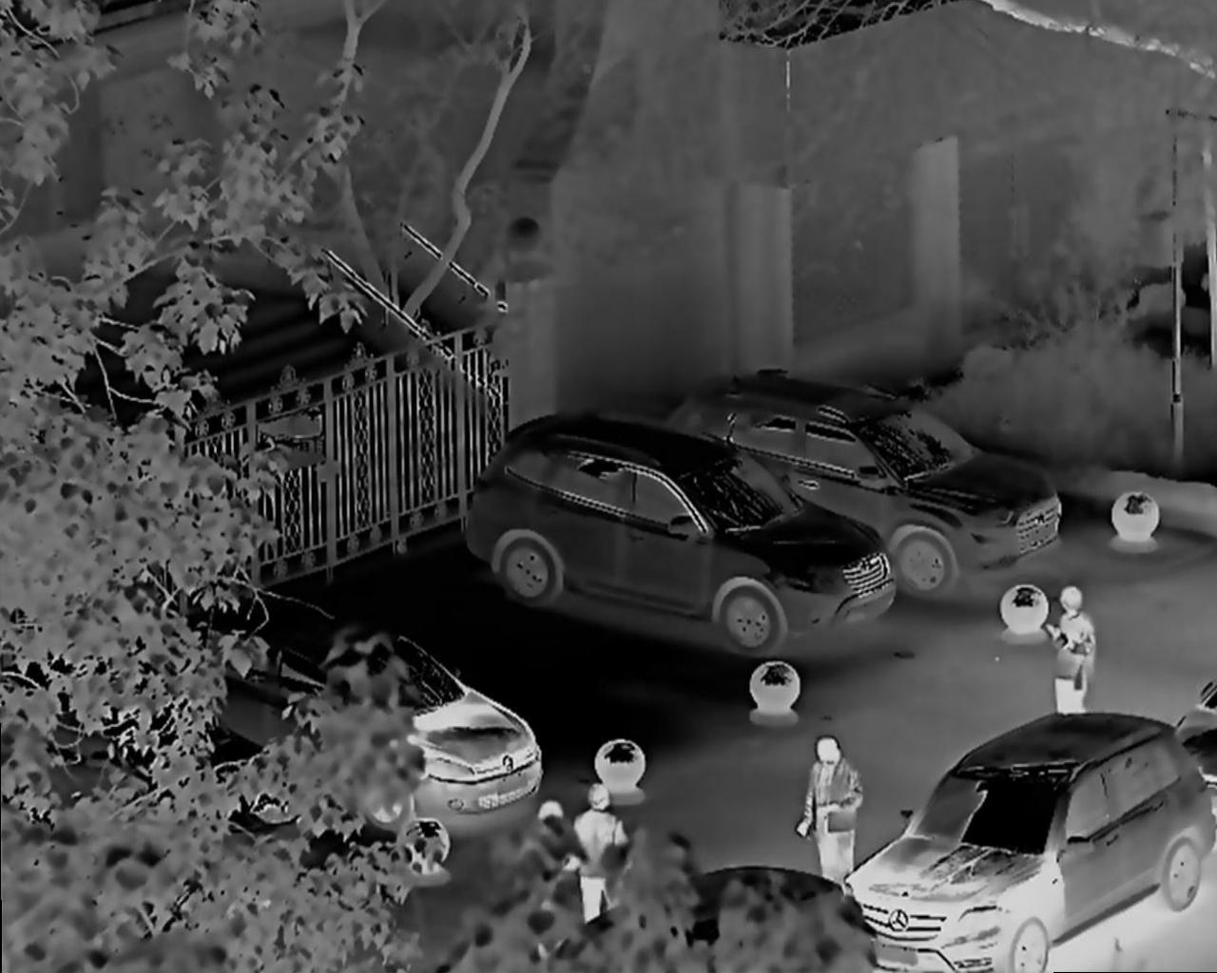person: (802, 733, 865, 902), (1046, 581, 1105, 741), (569, 784, 627, 932)
